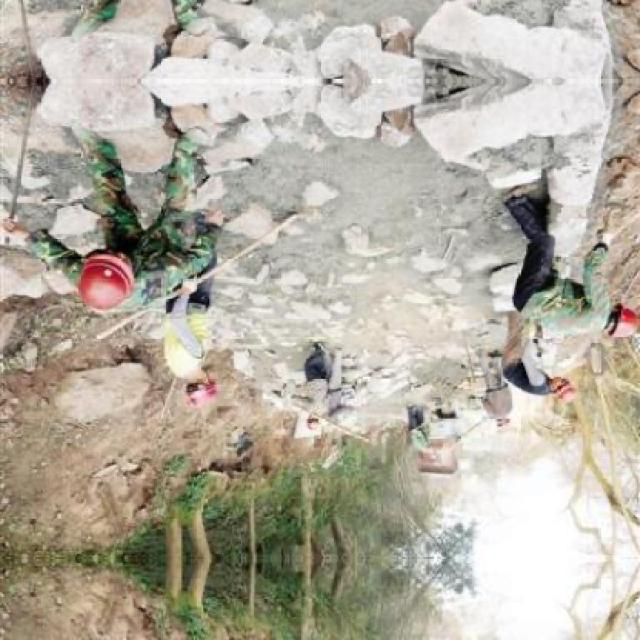con casco: (49, 216, 173, 333), (146, 324, 268, 429), (572, 258, 640, 374), (537, 336, 588, 414)
